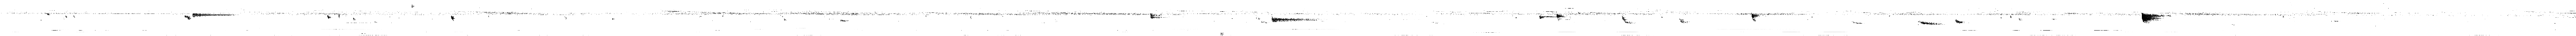meteor: (2141, 11, 2172, 23), (192, 11, 235, 18), (1272, 16, 1314, 23), (1917, 20, 1943, 26), (1621, 16, 1636, 25), (1539, 15, 1556, 20), (1751, 11, 1759, 21), (1150, 13, 1163, 18), (1679, 18, 1690, 23), (1556, 13, 1566, 18), (1955, 20, 1965, 25), (450, 15, 455, 21), (327, 15, 332, 20)
